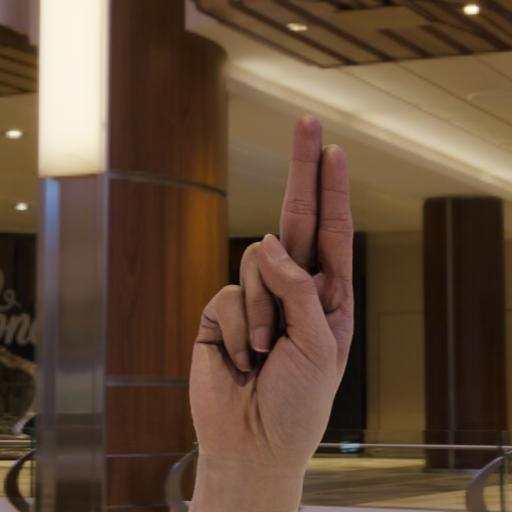U: (119, 72, 419, 462)
